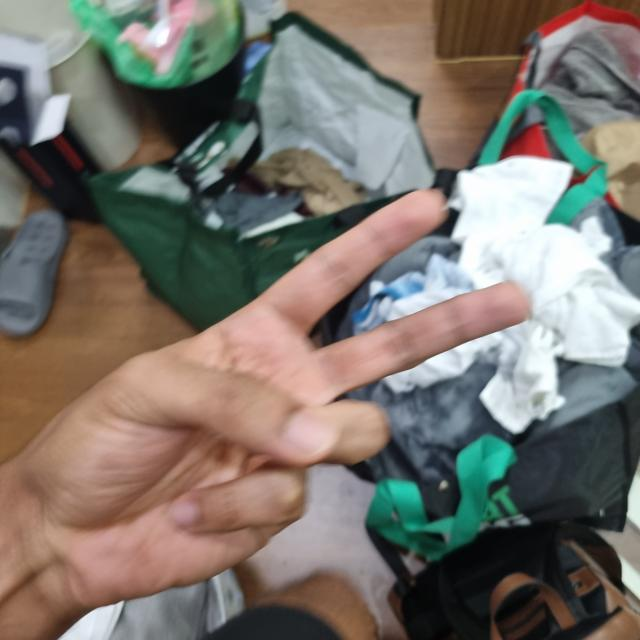Scissors: (1, 195, 528, 631)
